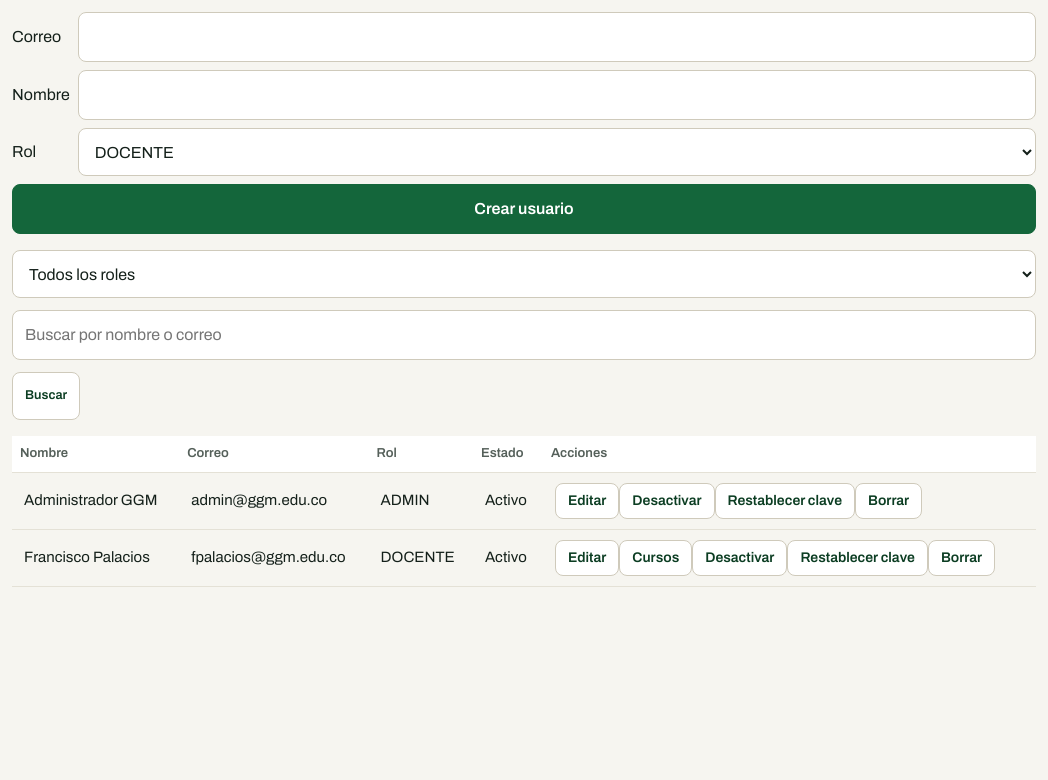
Test: PanelUsuarios › editar cambia nombre y rol y manda un PUT
Expected: the text "Francisco Palacios" is shown, left=12, top=529, right=179, bottom=586
Step 1. Click the button "Editar" in the row of "Francisco Palacios" → (587, 558), box left=555, top=540, right=619, bottom=576
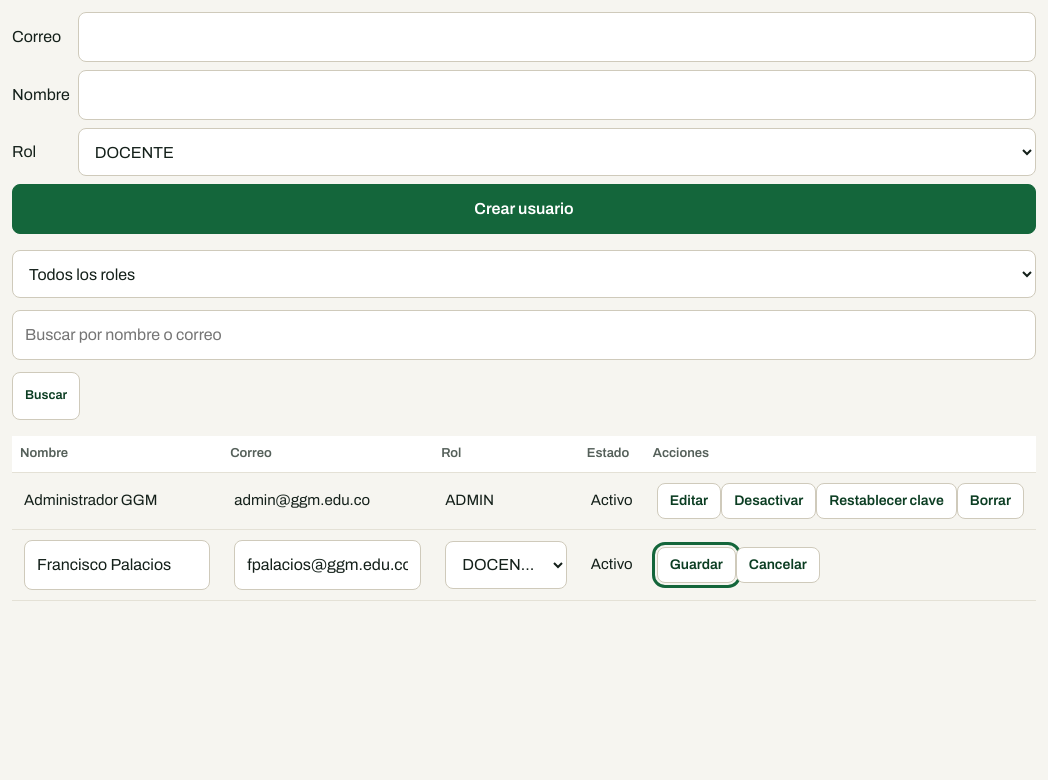
Step 2. Replace the text in the field named "editar nombre" with "Francisco Palacios Suárez" → (117, 564), box left=24, top=540, right=210, bottom=590
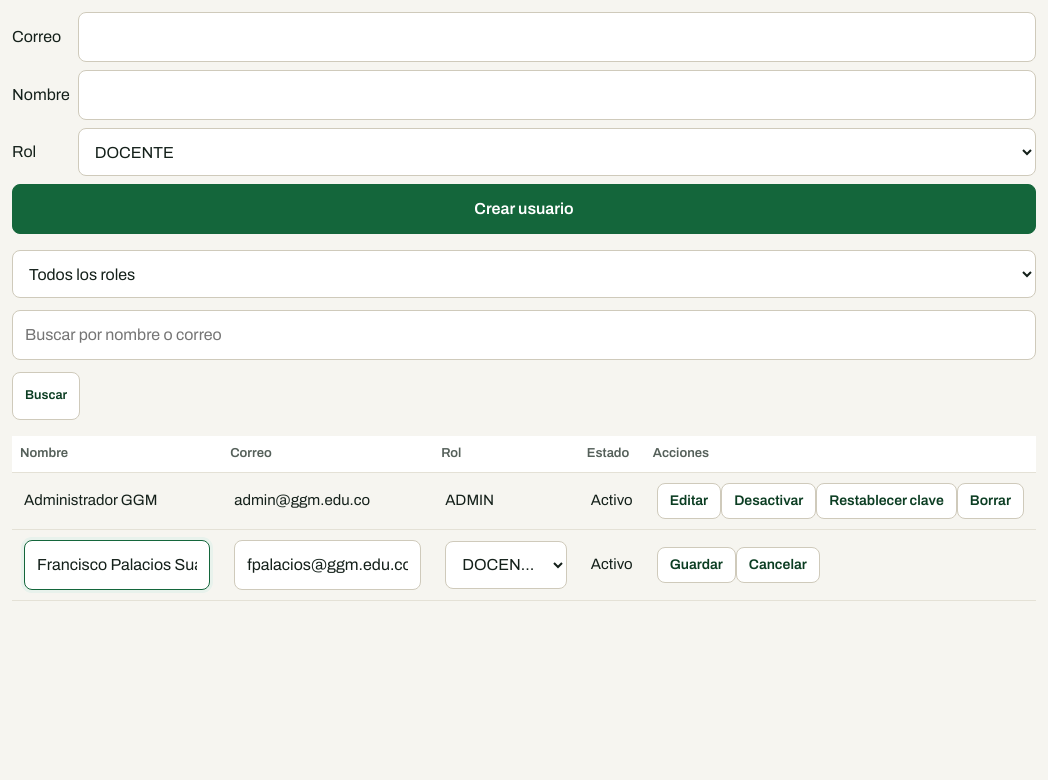
Step 3. Select "ADMIN" in the dropdown named "editar rol" → (506, 564), box left=445, top=540, right=567, bottom=588
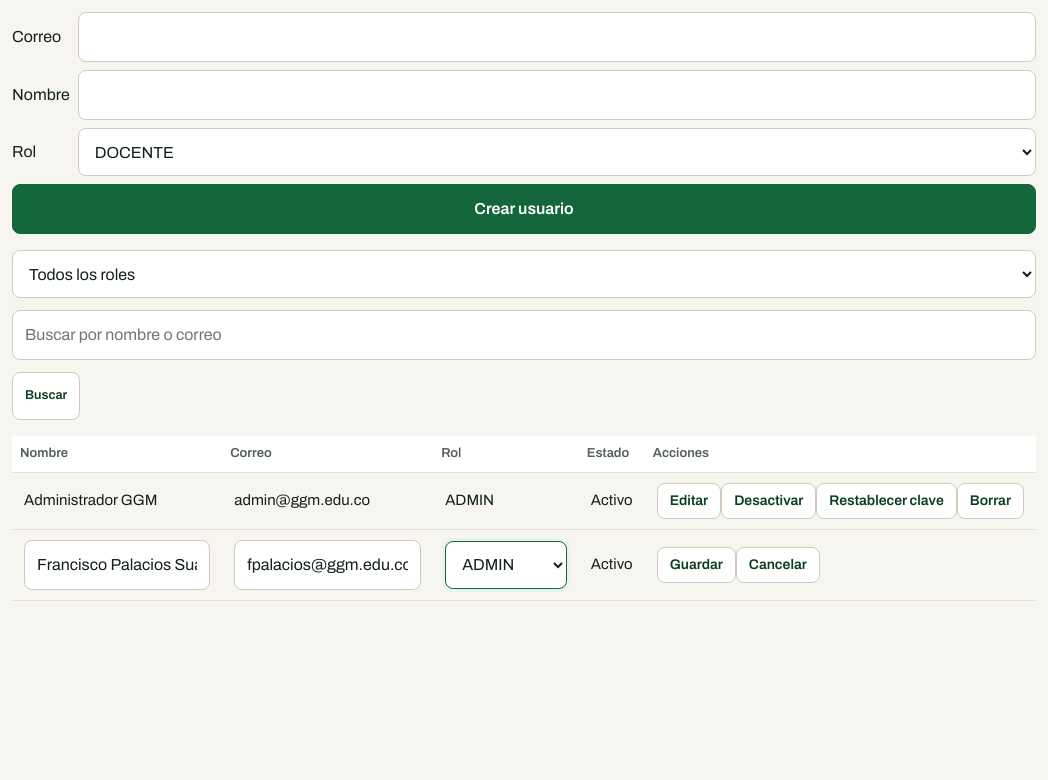
Step 4. Click the button "Guardar" → (696, 564), box left=657, top=546, right=736, bottom=582
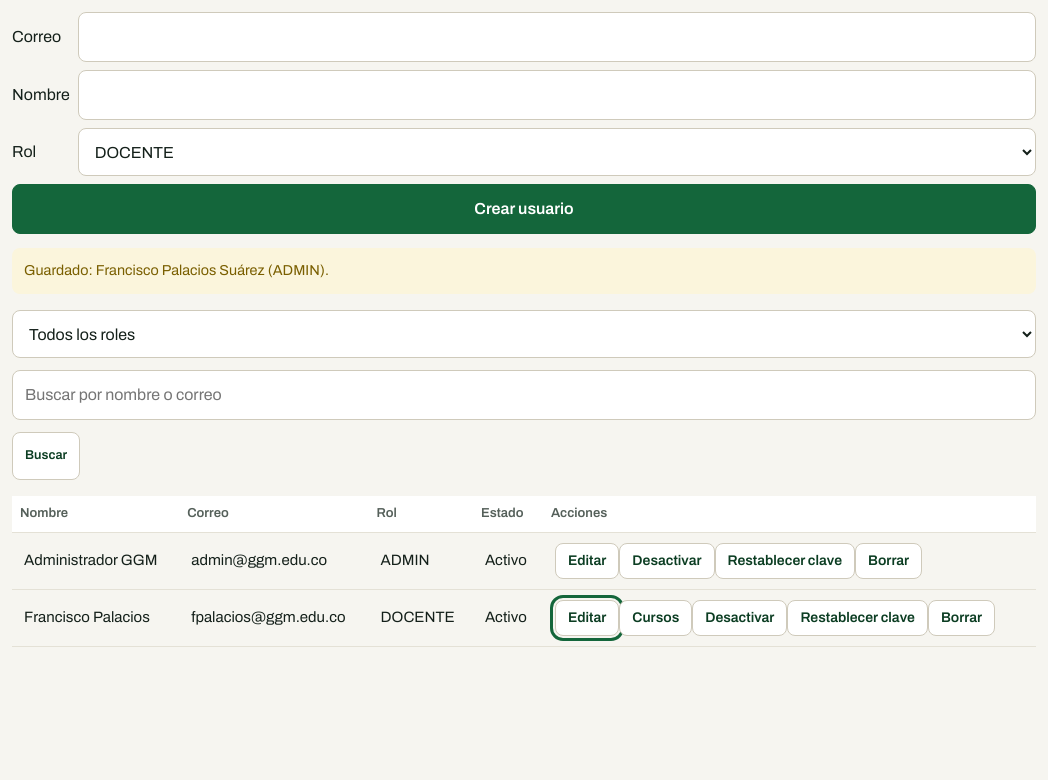
Expected: the message shows "Guardado", left=24, top=262, right=329, bottom=278
